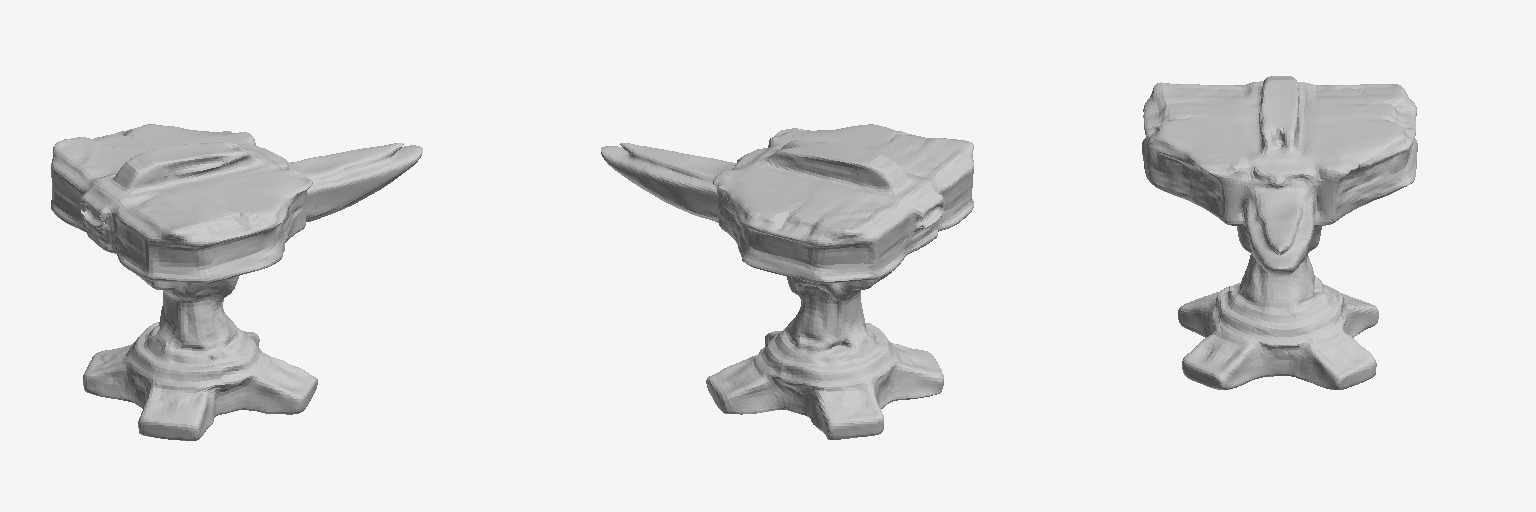
The model's file is 3abdffcf010c_A_large_sci_fi_alie.obj.
3 renders of one model, left to right at view 1: azimuth 30°, elevation 25°; view 2: azimuth 150°, elevation 25°; view 3: azimuth 270°, elevation 25°, orthographic.
Visible parts, largest first — view 1: mesh; view 2: mesh; view 3: mesh.
Part boxes in pixels (x1,y1,x2,y2): mesh: (51,124,422,440); mesh: (601,124,973,439); mesh: (1142,76,1417,389).
Bounding box in the file's own units: 0.9971 × 0.7103 × 0.719.